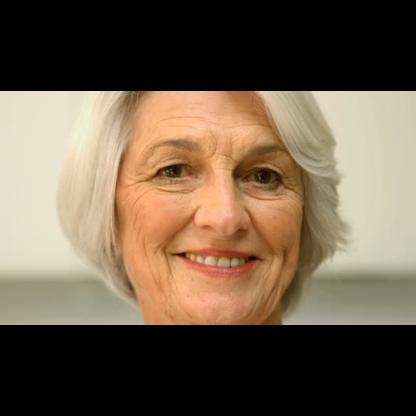Female: (113, 92, 302, 324)
